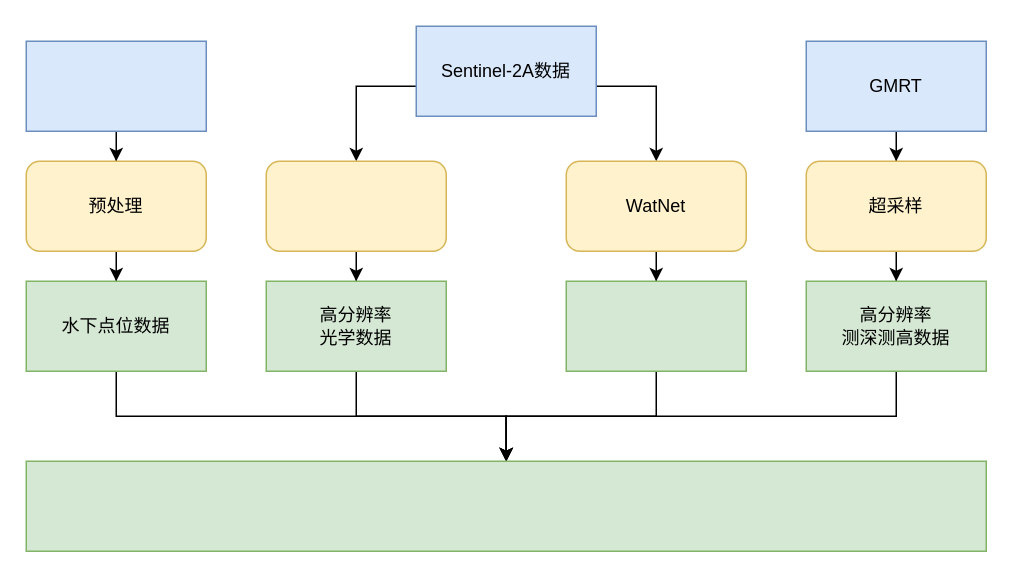
This 1013x578 diagram has some shape labels left out. The shapes that lost their labels are listed below. From the top down, each one's centre as x and y in pixels, then its label:
At (115,85): "ICESat-2数据".
At (355,205): "Sen2Res".
At (655,325): "水面范围".
At (505,505): "聚合栅格数据".
